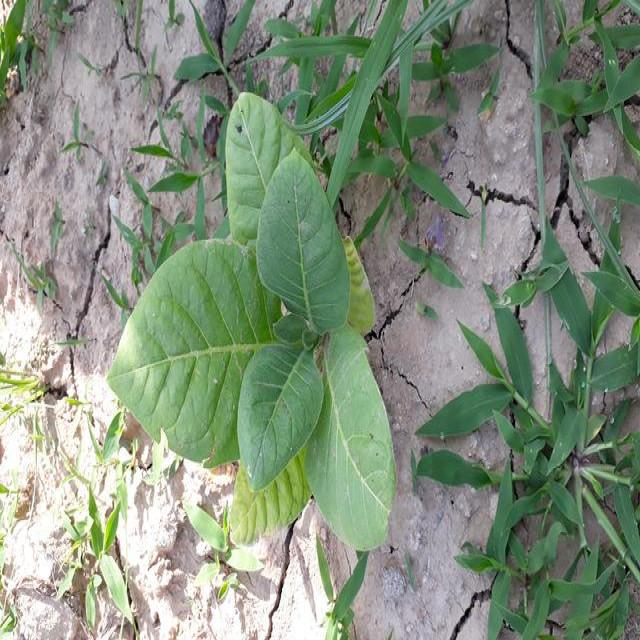crop: (108, 95, 390, 556)
